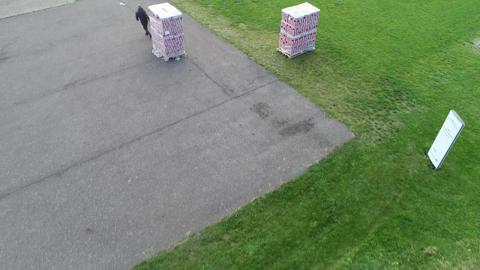RockwoolPallet: (151, 4, 182, 62)
